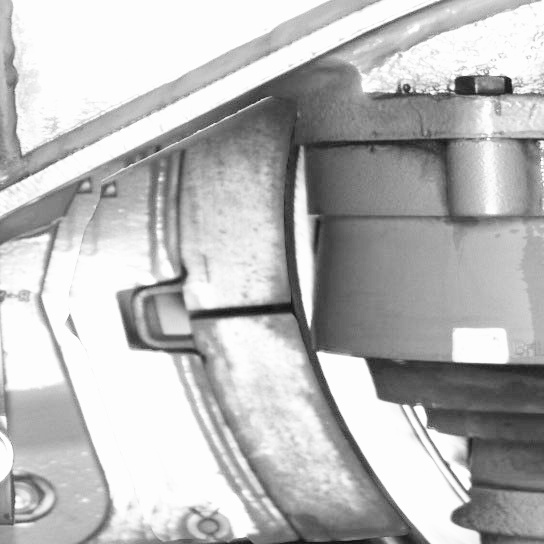ClosedKnifeSwitch: (187, 139, 451, 543)
